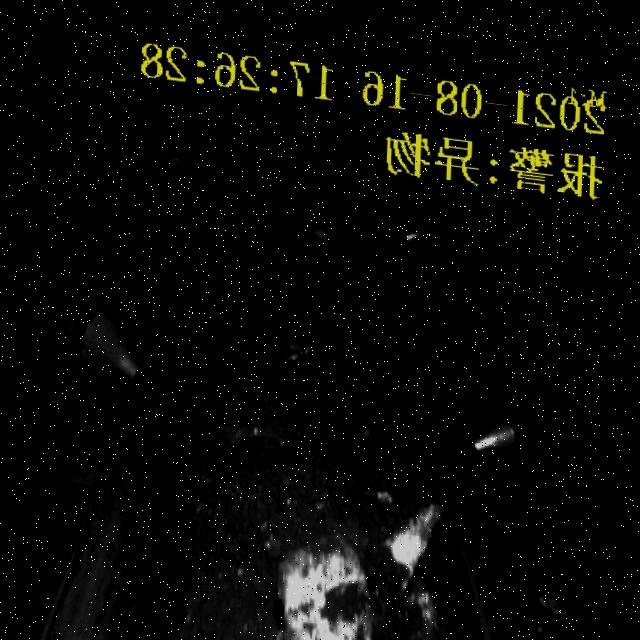large_sized_coal: (283, 531, 387, 640), (377, 484, 446, 595), (220, 404, 321, 467)
